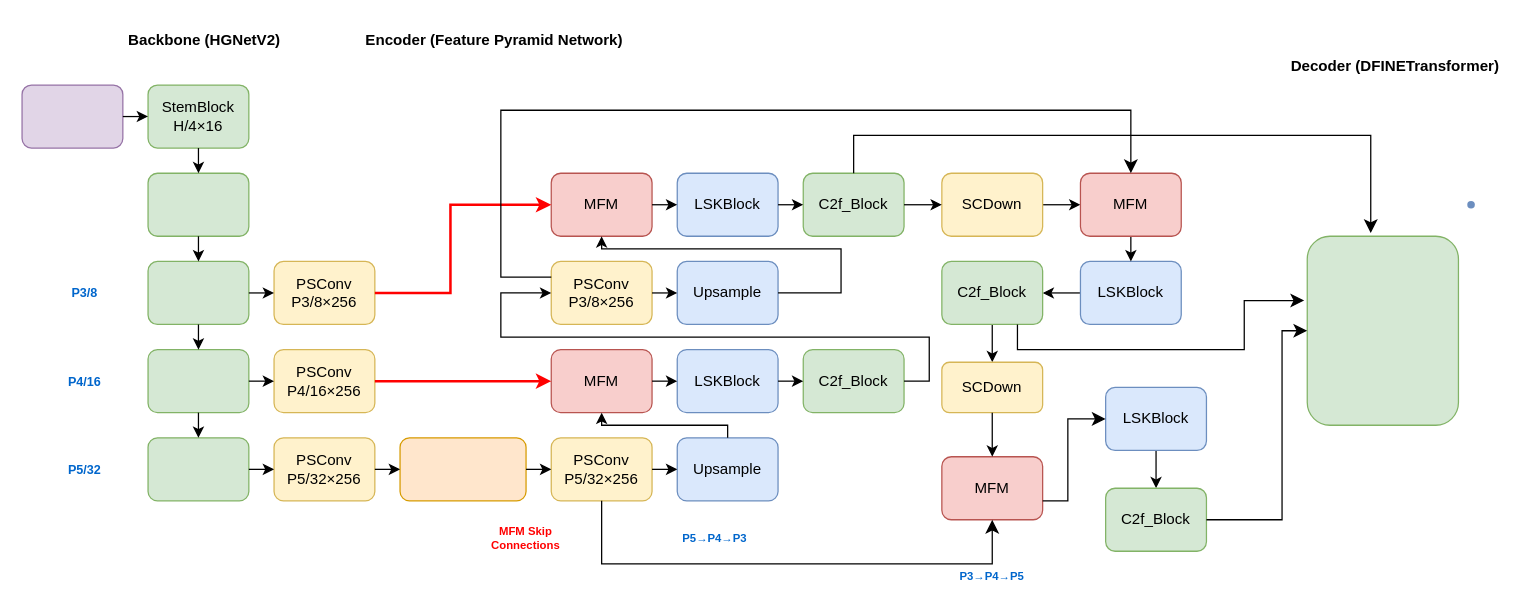
Image size: 1531x610. Some labels were removed from this diagram. The shapes that lost their labels are listed below. From the top down, each one's centre as x and y in pixels, then its label:
point 72,116: Input H×W×3
point 198,204: HG_Stage1 H/4×64
point 198,292: HG_Stage2 H/8×256
point 1382,330: DFINETransformer Multi-scale Fusion [8,16,32]×256
point 198,380: HG_Stage3 H/16×512
point 198,469: HG_Stage4 H/32×1024
point 462,469: Transformer EncoderBlock
